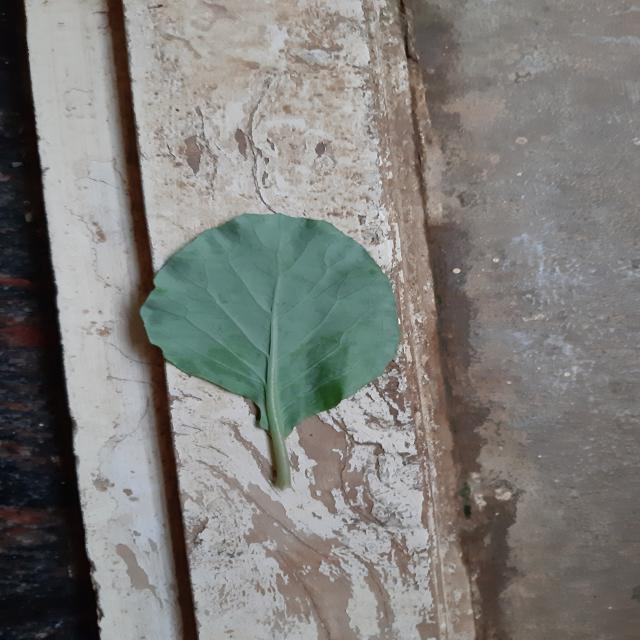Kohlrabi: (140, 214, 400, 488)
